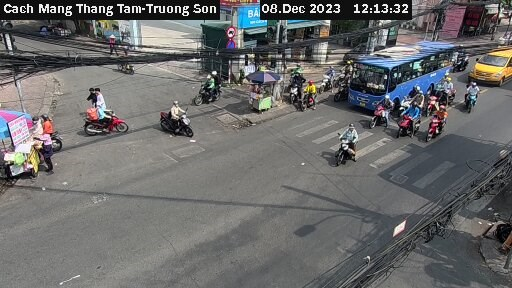bus: (349, 37, 452, 91)
car: (472, 44, 512, 83)
motorbike: (76, 103, 130, 140), (152, 103, 202, 139), (328, 128, 373, 164), (193, 76, 231, 105), (460, 80, 495, 109), (394, 104, 425, 135), (365, 96, 399, 124), (427, 111, 457, 141), (297, 83, 327, 107), (283, 76, 309, 99), (319, 67, 337, 91)
